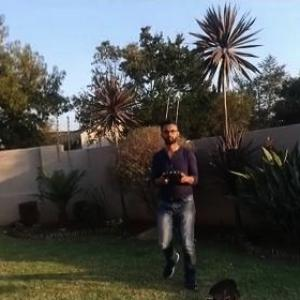follow: (148, 116, 203, 296)
null: (192, 280, 247, 299)
